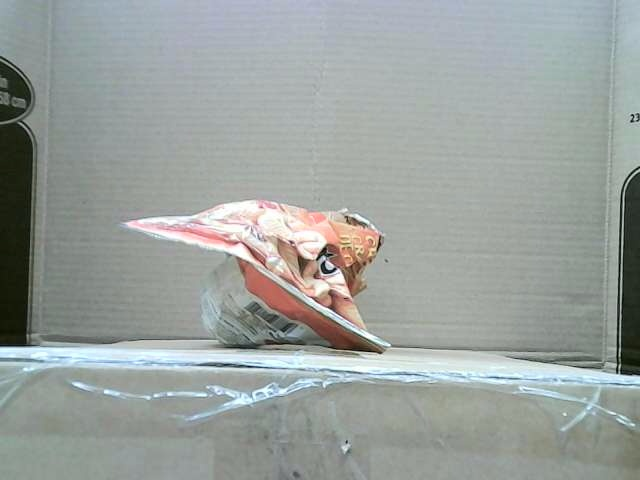Chips: (117, 198, 392, 356)
